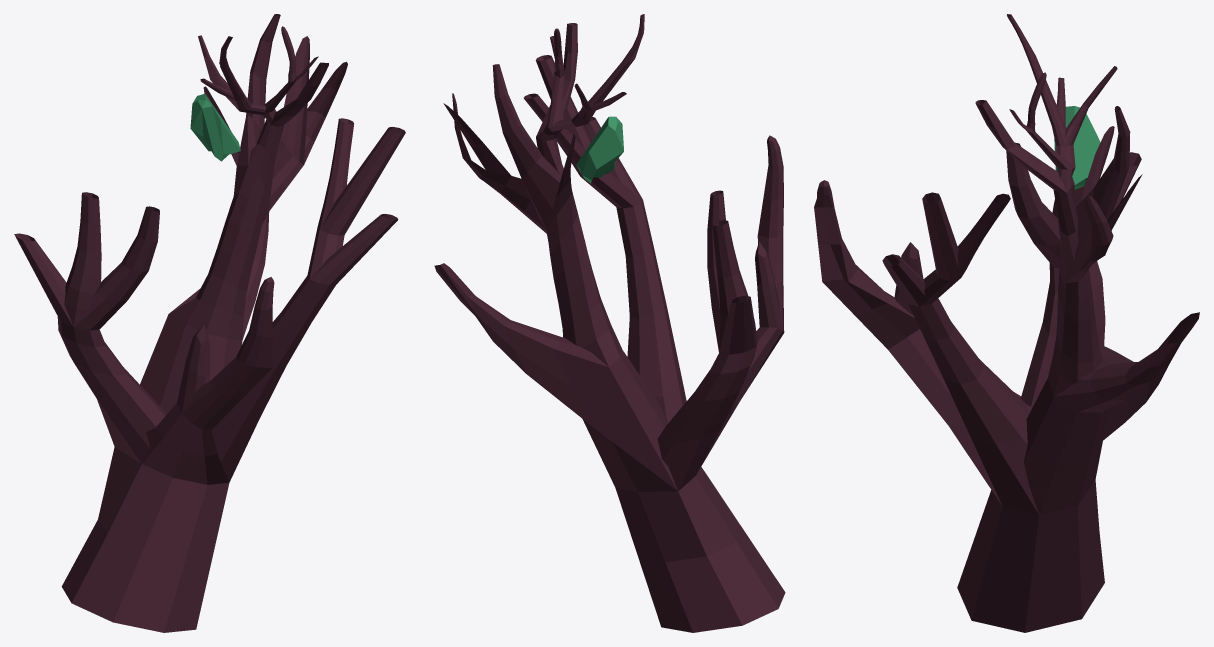
The model's file is treedecor4.fbx.
3 views of the same model, side by side, from view 1: azimuth 30°, elevation 25°; view 2: azimuth 150°, elevation 25°; view 3: azimuth 270°, elevation 25° (orthographic). The views are drawn at different scales.
Visible parts, largest first — view 1: Cube, Icosphere.007; view 2: Cube, Icosphere.007; view 3: Cube, Icosphere.007.
Boxes of the visible parts, x1,y1,x2,y2 form: Cube: (14, 14, 405, 632); Icosphere.007: (190, 94, 240, 161); Cube: (434, 14, 785, 632); Icosphere.007: (576, 116, 623, 183); Cube: (814, 14, 1199, 632); Icosphere.007: (1054, 106, 1100, 189).
Bounding box in the file's own units: 8201 × 14370 × 7879.
